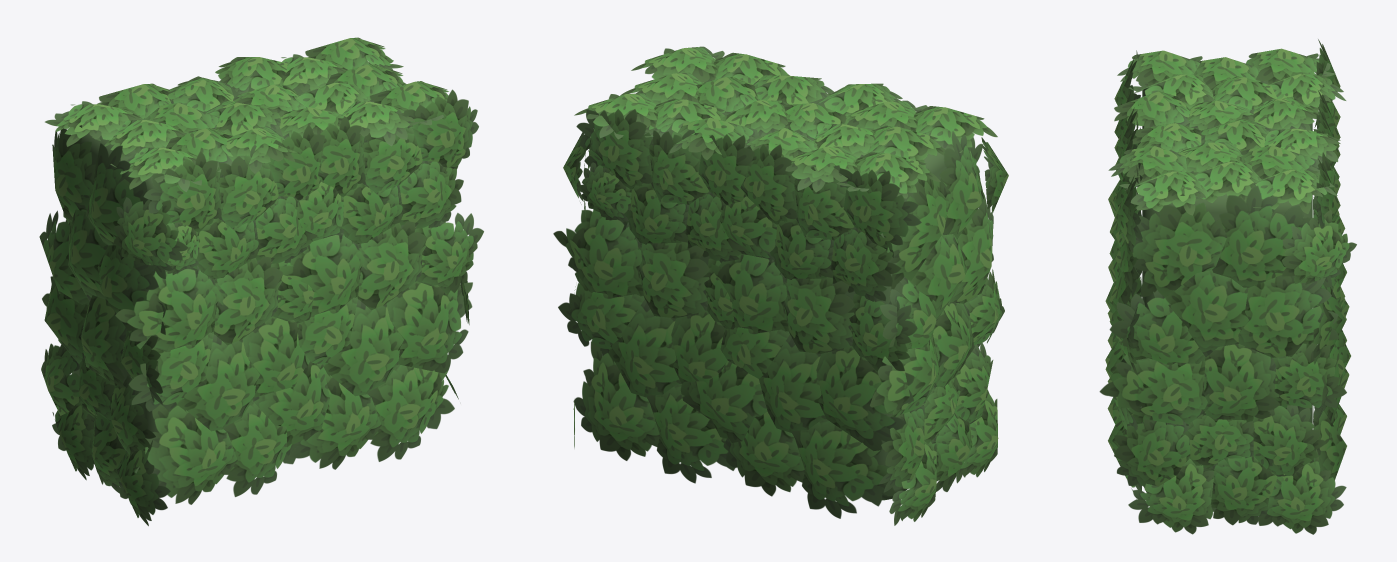
The model's file is hedge.glb.
3 views of the same model, side by side, from view 1: azimuth 30°, elevation 25°; view 2: azimuth 150°, elevation 25°; view 3: azimuth 270°, elevation 25° (orthographic). The views are drawn at different scales.
Visible parts, largest first — view 1: Bush_2x2; view 2: Bush_2x2; view 3: Bush_2x2.
Boxes of the visible parts, box(x1,y1,x2,y2) form: Bush_2x2: box(39, 37, 483, 525); Bush_2x2: box(553, 46, 1008, 525); Bush_2x2: box(1099, 39, 1356, 534).
Bounding box in the file's own units: 1.8 × 1.63 × 1.19.
1 material, 1 textured.
